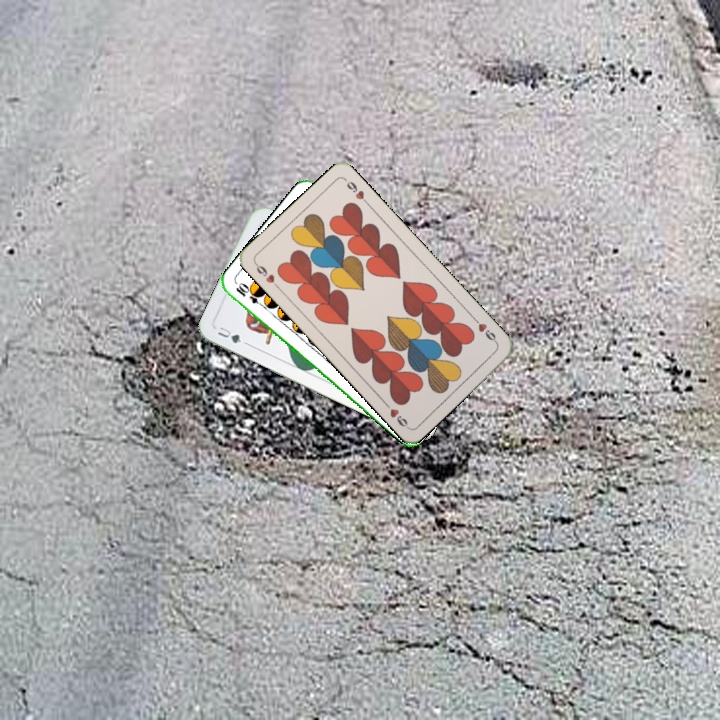E10: (231, 280, 268, 310)
GU: (213, 323, 244, 346)
H9: (251, 259, 282, 292), (469, 313, 500, 346)
